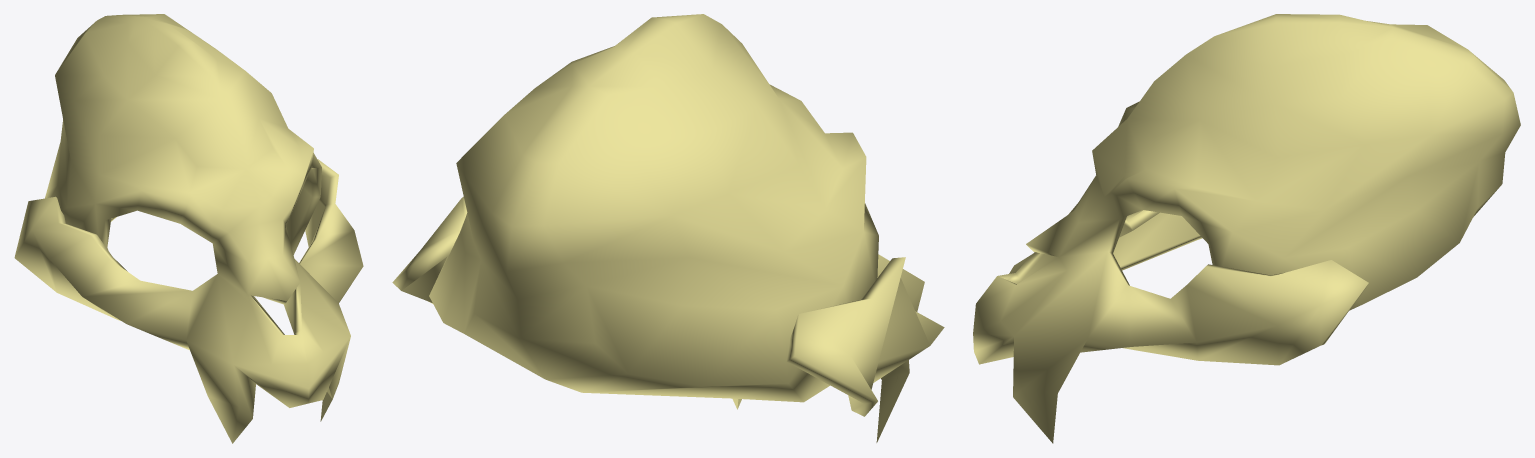
Rendered from Skull.glb.
3 renders of one model, left to right at view 1: azimuth 30°, elevation 25°; view 2: azimuth 150°, elevation 25°; view 3: azimuth 270°, elevation 25°, orthographic. The views are drawn at different scales.
Parts seen in each view (by area): view 1: Cube.006; view 2: Cube.006; view 3: Cube.006.
Boxes of the visible parts, left/top/right/bottom form: Cube.006: left=14, top=14, right=363, bottom=443; Cube.006: left=392, top=14, right=944, bottom=442; Cube.006: left=973, top=14, right=1520, bottom=443.
Bounding box in the file's own units: 1.5 × 1.52 × 1.88.
